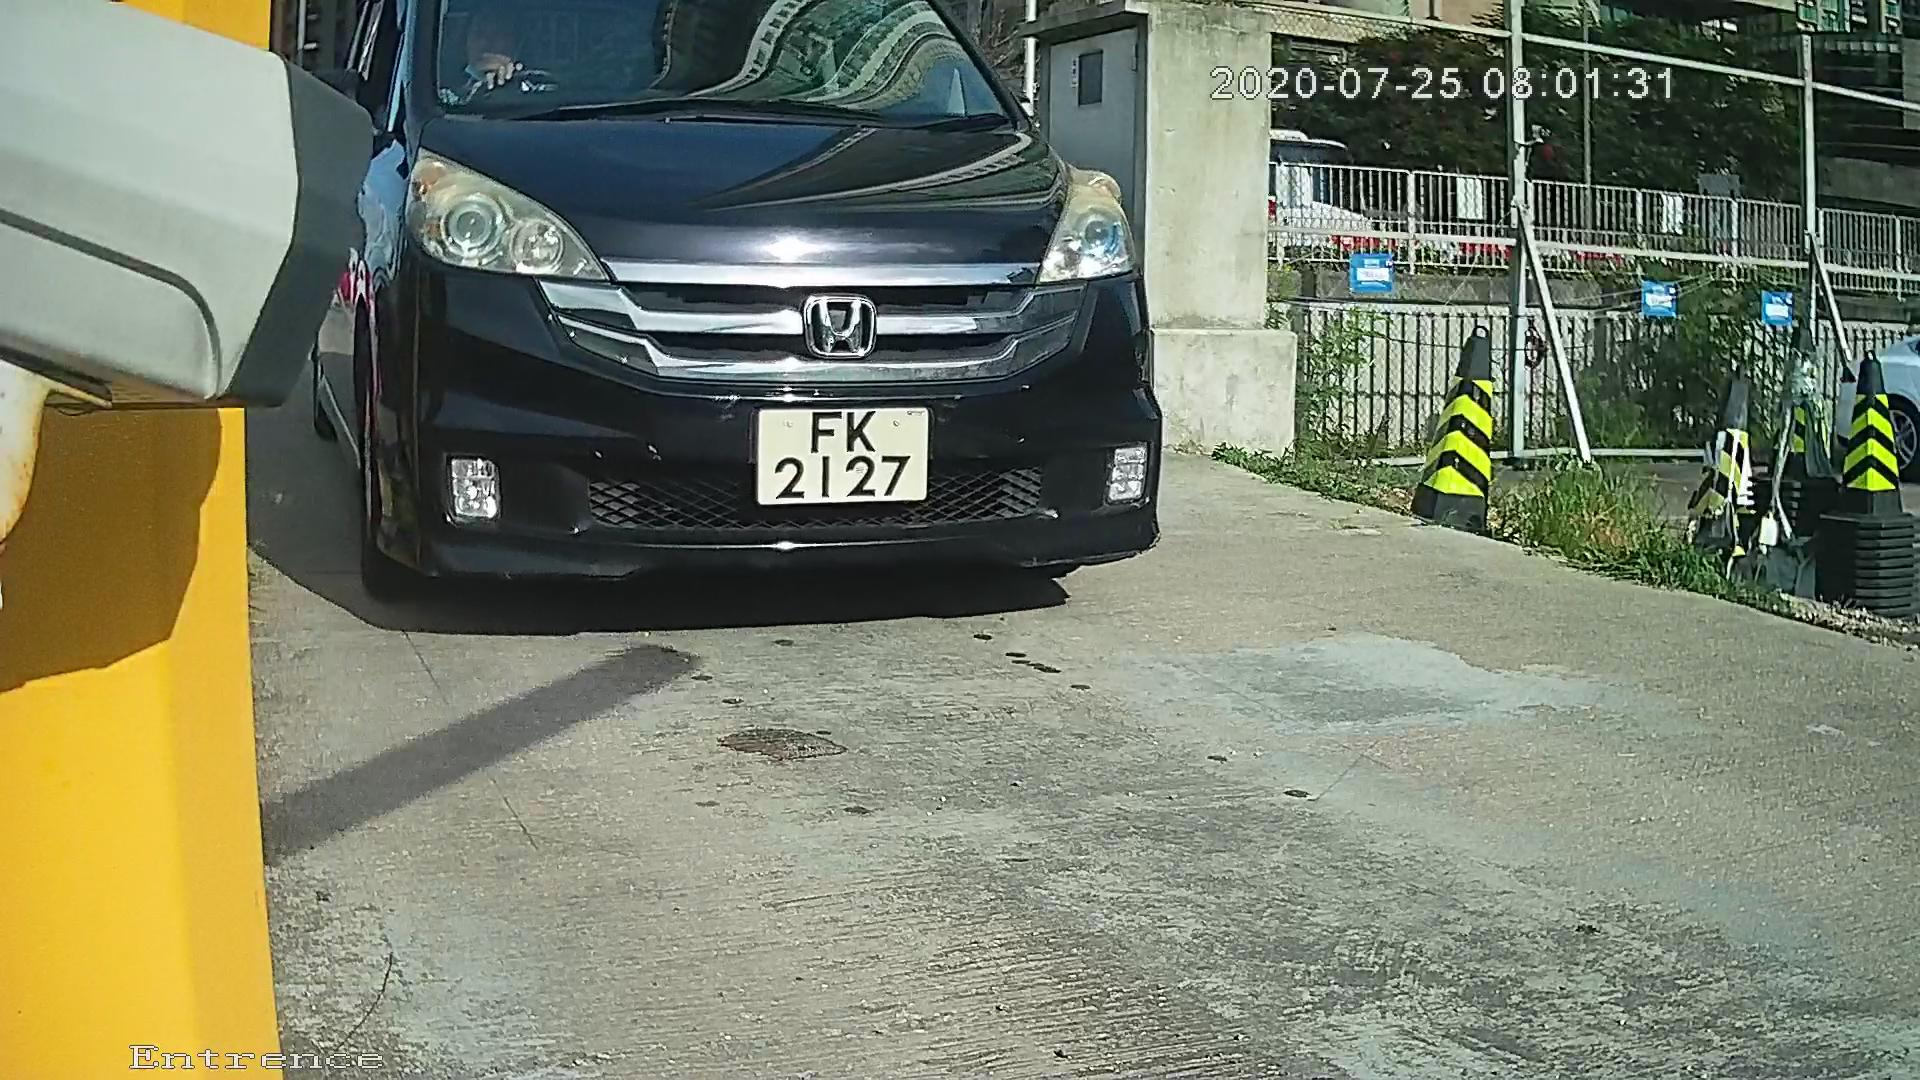Car: (121, 5, 1295, 656)
License Plate: (721, 396, 952, 516)
